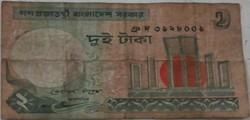2 taka: (1, 2, 247, 116)
